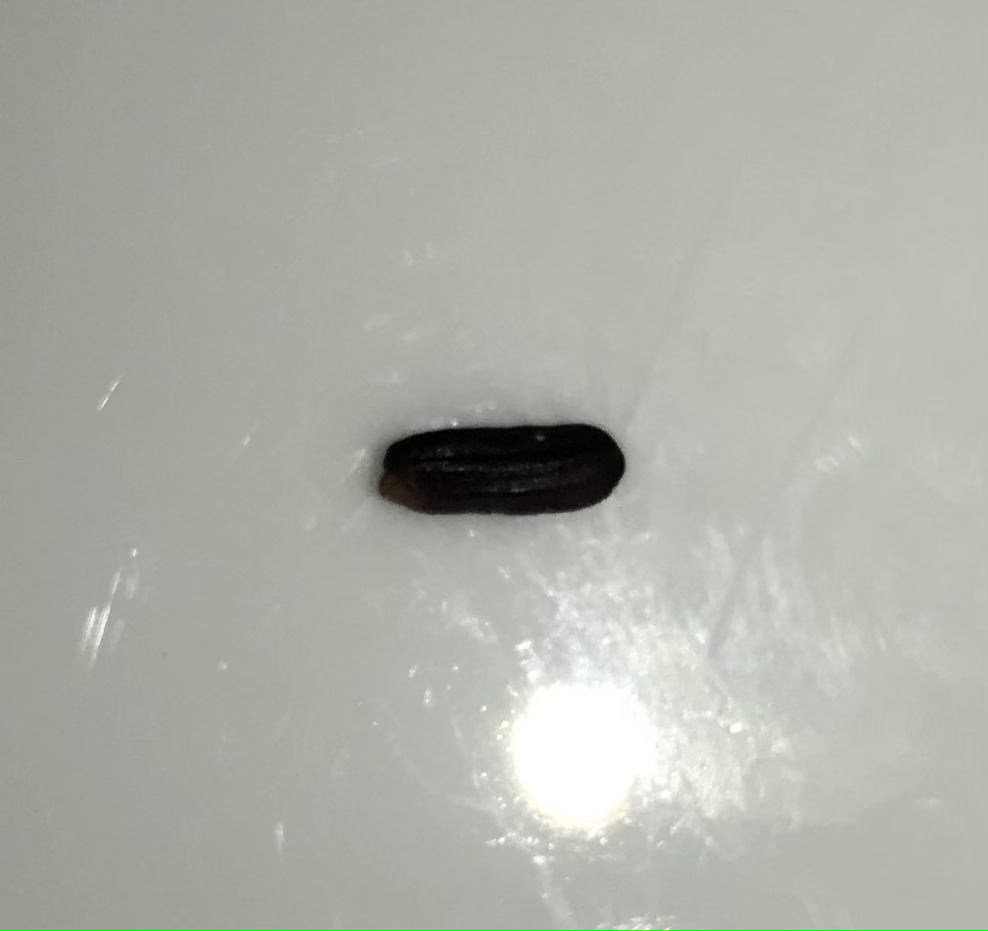Gao lut: (381, 423, 625, 516)
